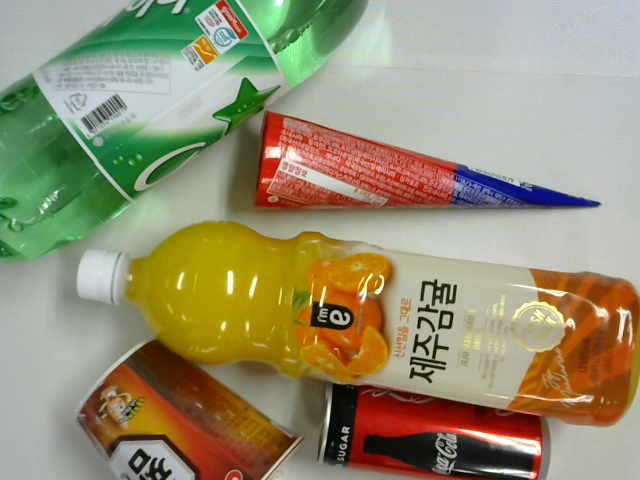Chilseong_Cider_1.5L: (1, 1, 371, 263)
Coca_Cola_Zero_Can_250ml: (316, 381, 556, 480)
Jeju_Tangerine_1.5L: (76, 219, 640, 429)
Ojjam: (78, 338, 301, 480)
World_Cone_Banila: (254, 107, 607, 215)
